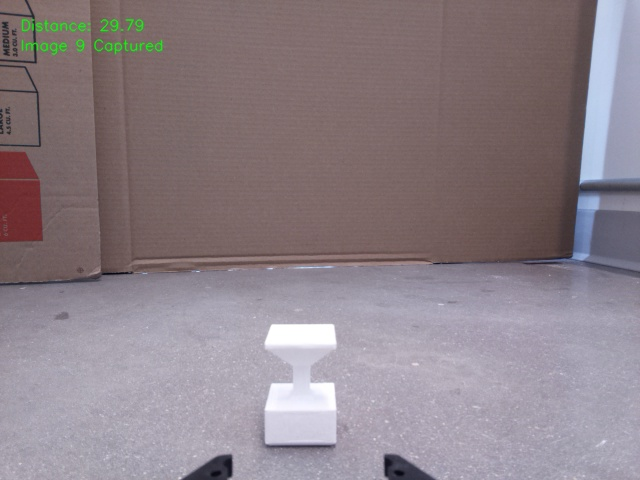block: (261, 322, 340, 446)
